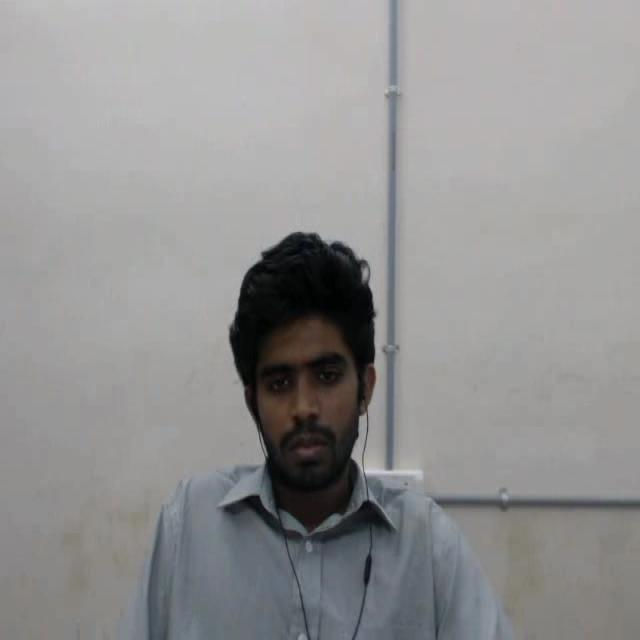Engaged: (202, 210, 423, 518)
